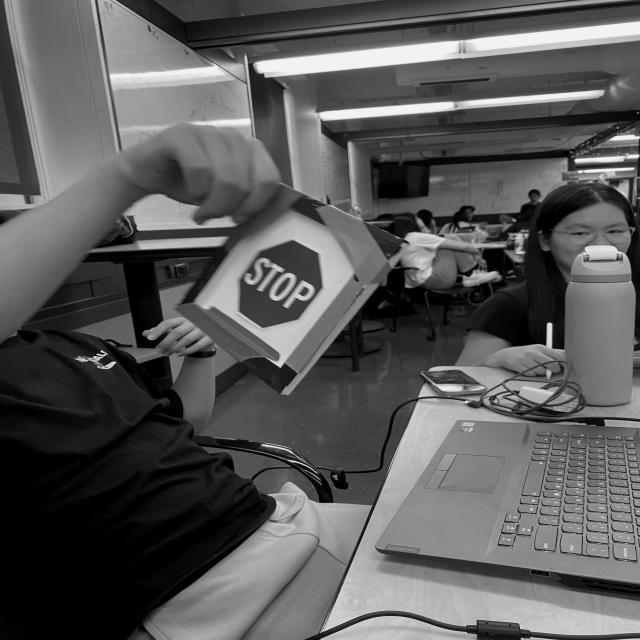stop: (233, 235, 326, 328)
